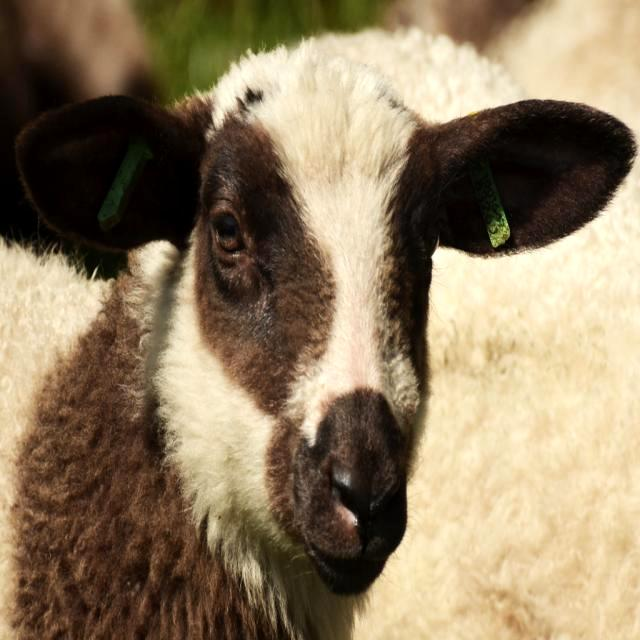sheep: (353, 35, 639, 637)
